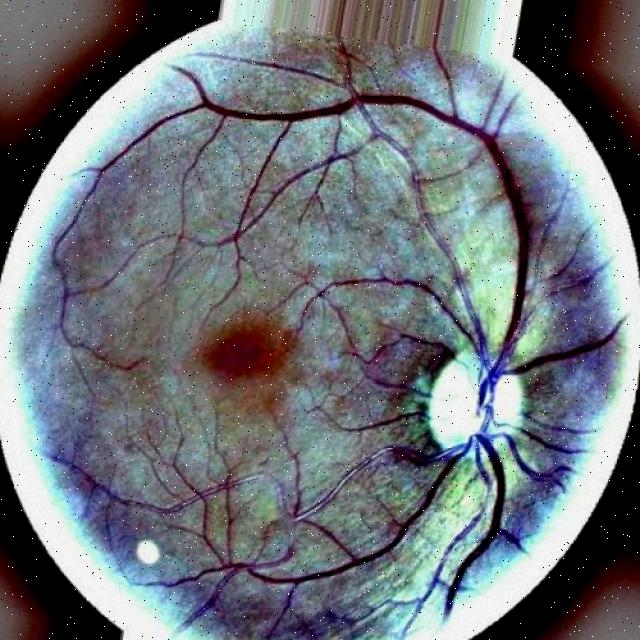Macula: (185, 313, 286, 399)
Nerves: (204, 80, 533, 344), (362, 468, 448, 575), (445, 455, 511, 585), (522, 313, 619, 374)
Optic Disk: (420, 337, 527, 477)
